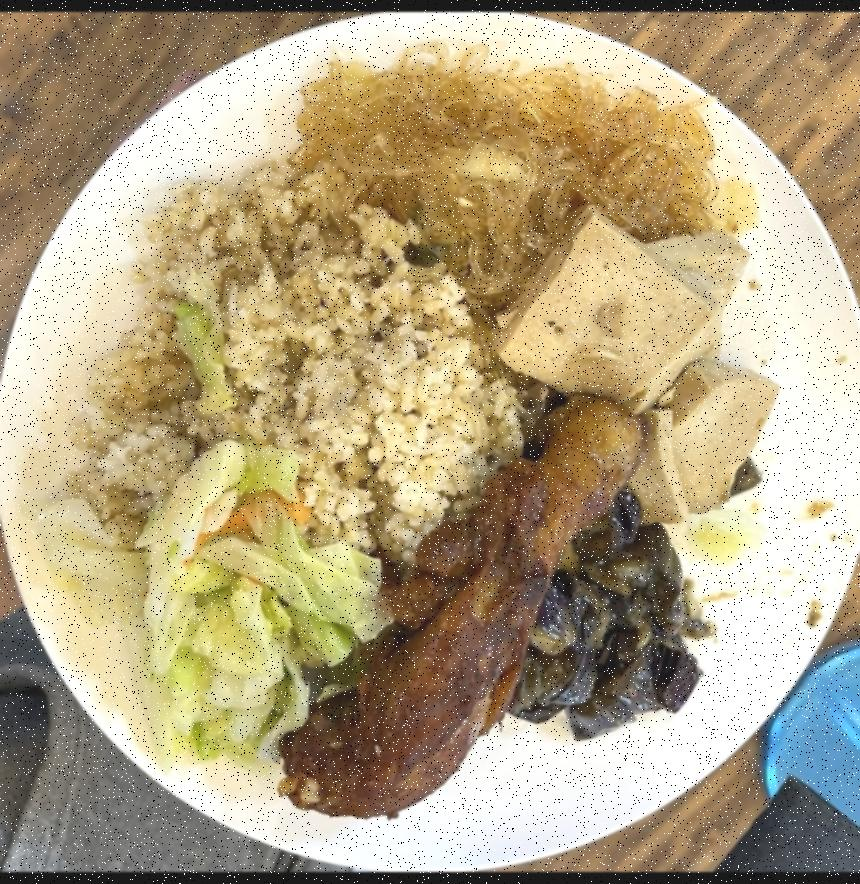big fried chicken leg: (0, 12, 860, 872)
box: (86, 174, 523, 572)
braised fish fillet: (295, 59, 721, 262), (499, 220, 772, 524), (145, 444, 389, 772), (520, 499, 700, 738)
braised pork: (282, 400, 650, 818)
